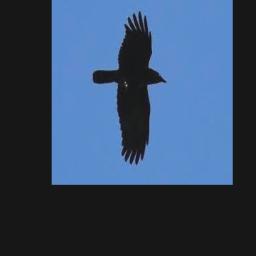Crow: (93, 11, 166, 165)
